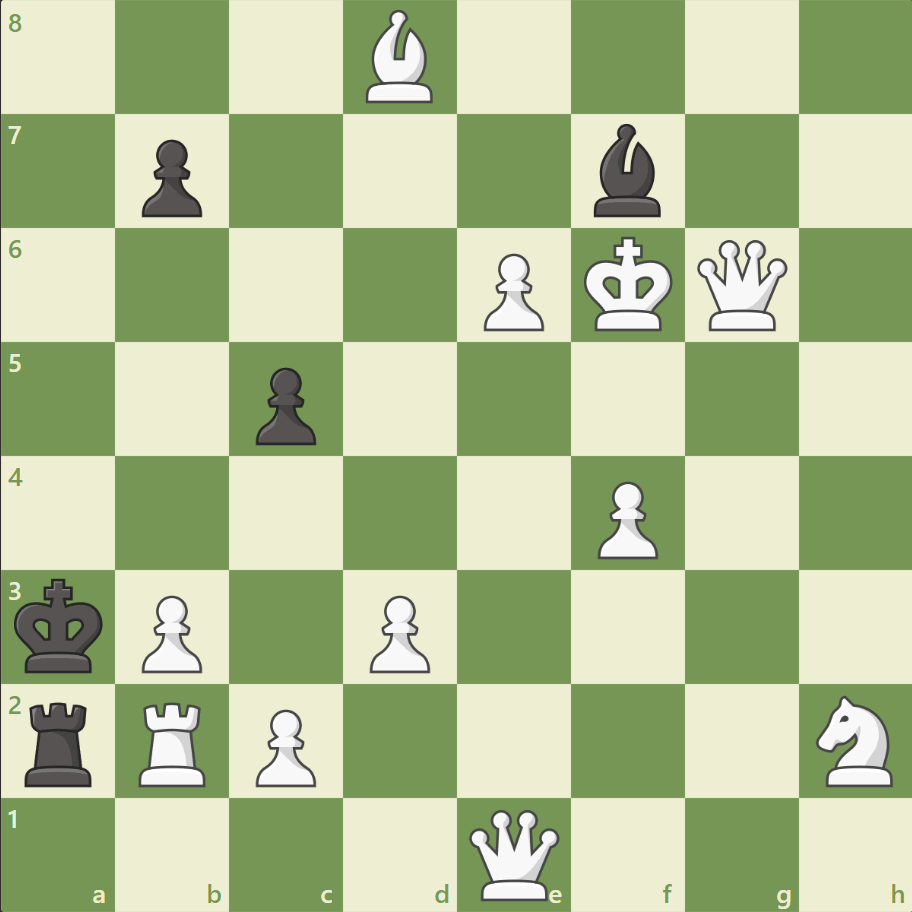B: (358, 6, 442, 109)
K: (579, 231, 679, 339)
N: (806, 688, 903, 791)
P: (474, 246, 549, 337), (133, 586, 208, 677), (247, 700, 322, 791), (588, 473, 662, 564), (361, 586, 435, 677)
Q: (691, 236, 790, 335), (464, 804, 563, 903)
R: (133, 693, 215, 790)
b: (585, 120, 669, 222)
k: (11, 571, 111, 679)
p: (133, 132, 208, 223), (247, 359, 322, 450)
r: (19, 693, 102, 790)
